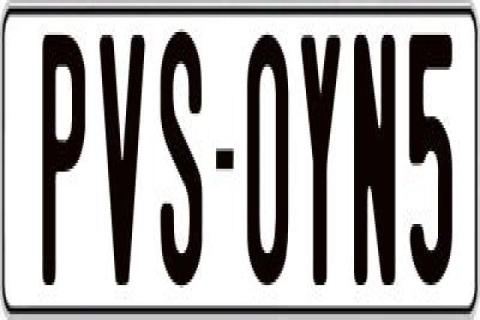0: (409, 32, 458, 300), (248, 26, 291, 288)
N: (354, 26, 398, 282)
P: (39, 29, 83, 285)
S: (160, 26, 206, 288)
V: (98, 26, 150, 291)
Y: (300, 32, 342, 300)
